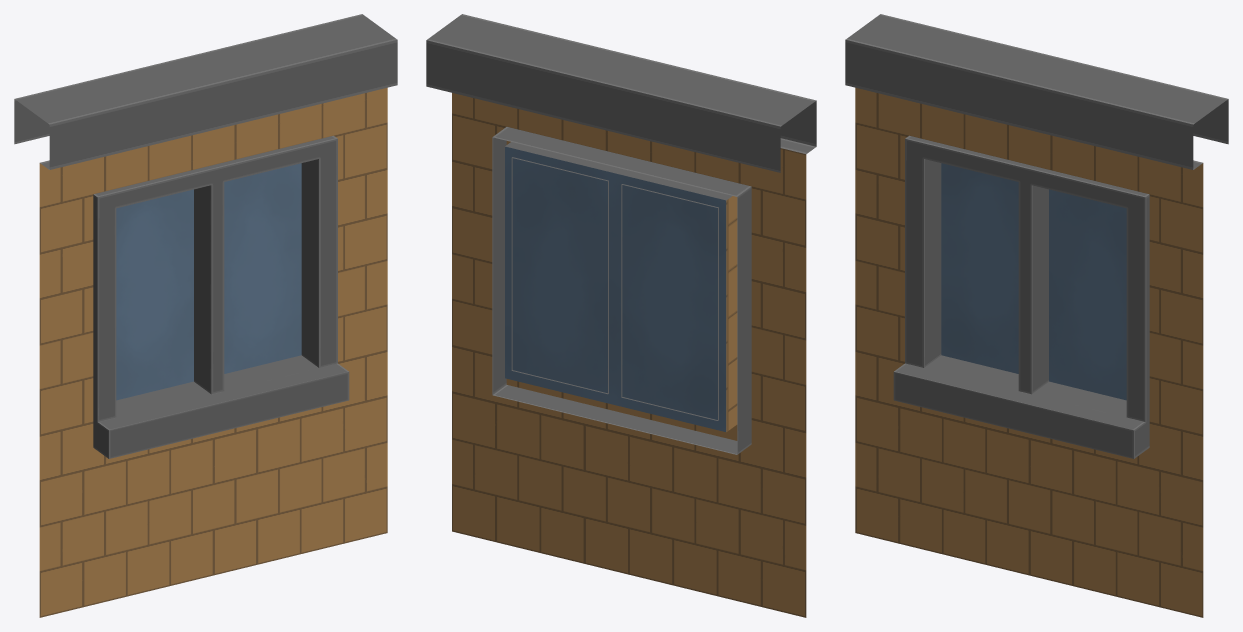
File: Wall_1_top.fbx
3 renders of one model, left to right at view 1: azimuth 30°, elevation 25°; view 2: azimuth 150°, elevation 25°; view 3: azimuth 330°, elevation 25°, orthographic.
Parts seen in each view (by area): view 1: Wall_1_top; view 2: Wall_1_top; view 3: Wall_1_top.
Boxes of the visible parts, <box> form: Wall_1_top: <box>14,14,397,617</box>; Wall_1_top: <box>426,14,816,617</box>; Wall_1_top: <box>845,14,1228,617</box>.
Bounding box in the file's own units: 280 × 385 × 56.73.
